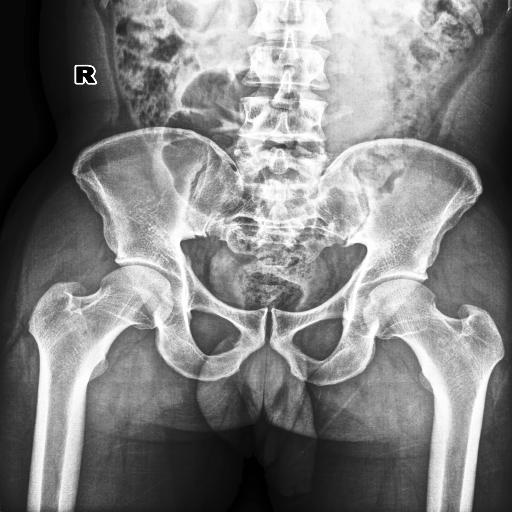normal: (364, 279, 505, 466), (29, 265, 173, 446)
